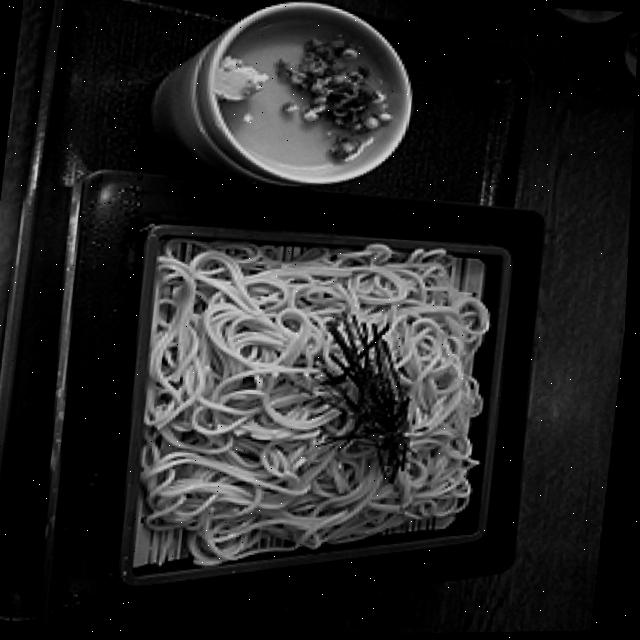面条主食: (5, 151, 578, 640)
